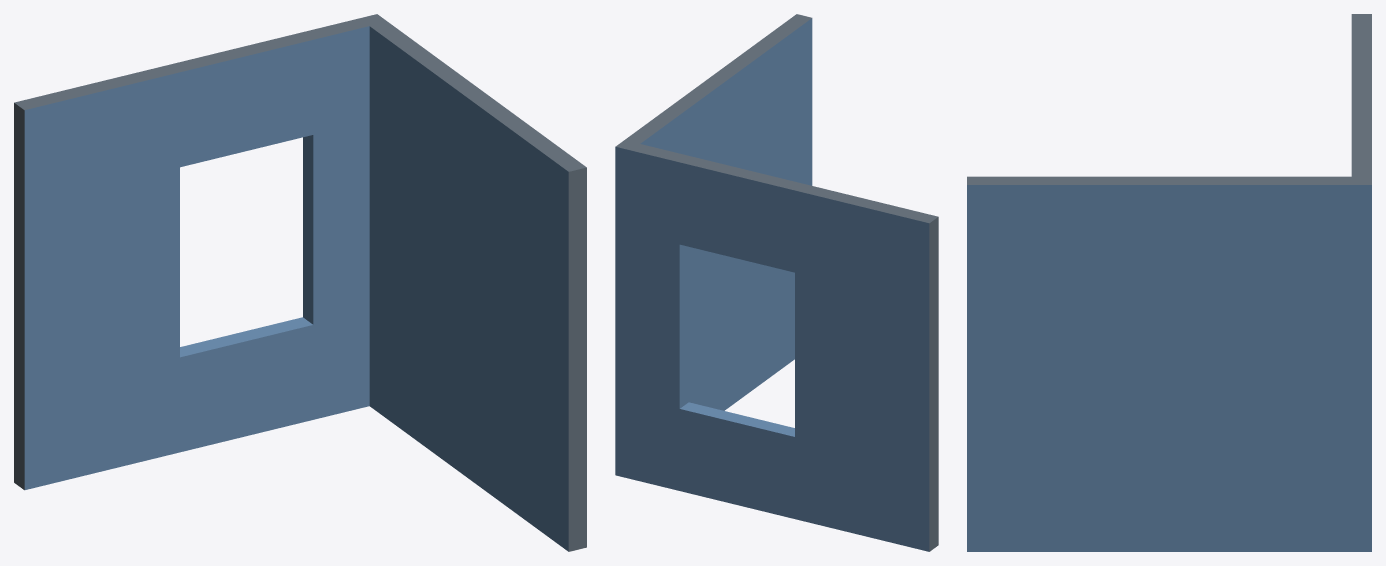
File: Wal_2_10.fbx
3 renders of one model, left to right at view 1: azimuth 30°, elevation 25°; view 2: azimuth 150°, elevation 25°; view 3: azimuth 270°, elevation 25°, orthographic. The views are drawn at different scales.
Parts seen in each view (by area): view 1: polySurface1888; view 2: polySurface1888; view 3: polySurface1888.
Boxes of the visible parts, x1=… form: polySurface1888: x1=14, y1=14, x2=586, y2=551; polySurface1888: x1=615, y1=14, x2=938, y2=551; polySurface1888: x1=967, y1=14, x2=1371, y2=551.
Size of the model in its own units: 4 by 4 by 4.
1 material, 1 textured.
